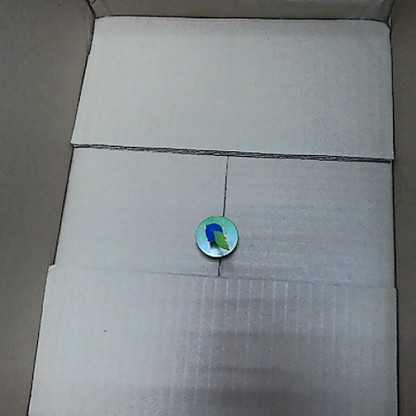leafairy: (190, 210, 240, 263)
